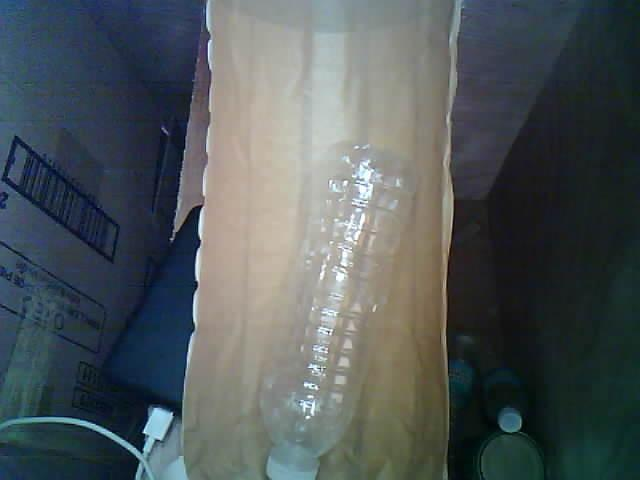small_bottle: (247, 138, 426, 480)
